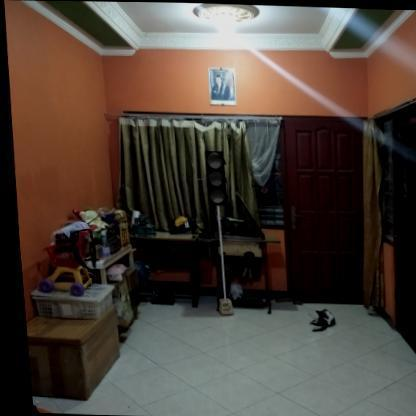yellow: (200, 149, 224, 205)
